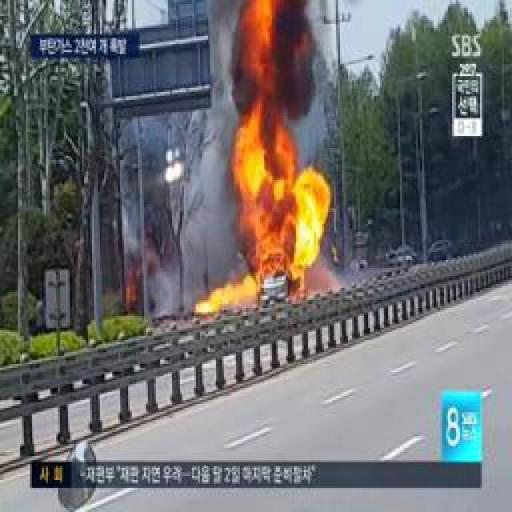smoke: (294, 173, 330, 266), (199, 282, 257, 315)
